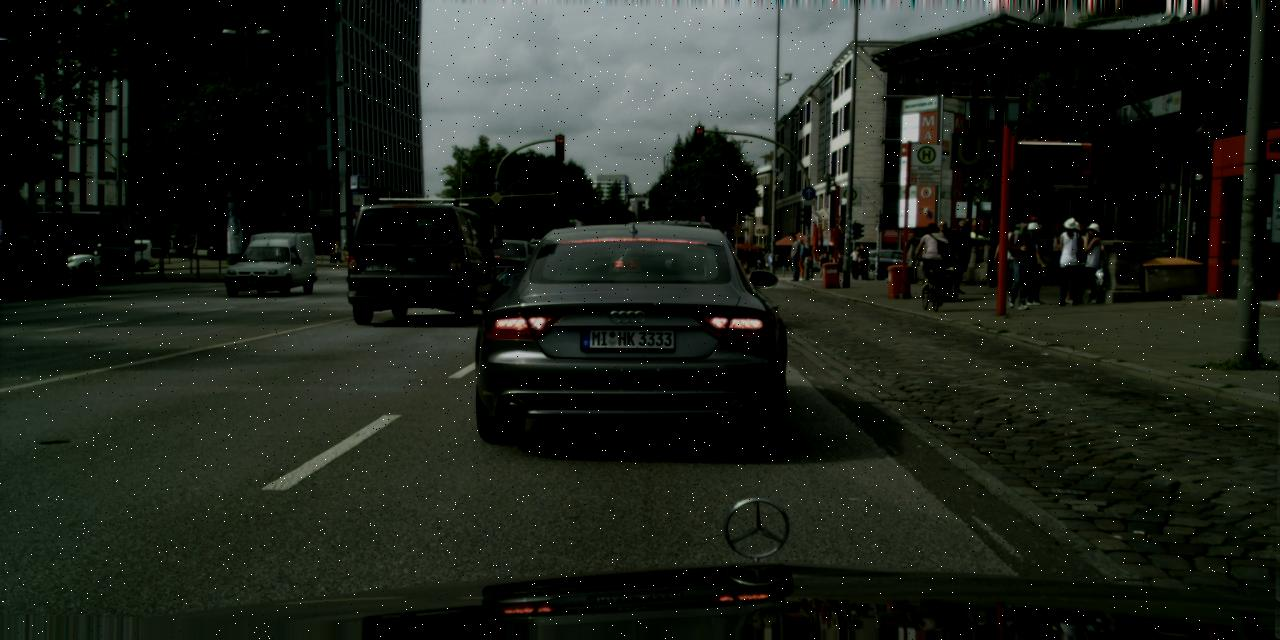ped: (1000, 214, 1040, 308), (1052, 216, 1088, 304), (1018, 221, 1051, 303), (1059, 220, 1092, 300), (1074, 222, 1107, 302), (944, 219, 973, 292), (918, 222, 947, 293), (927, 218, 955, 288), (997, 224, 1023, 288), (784, 233, 802, 279), (792, 238, 810, 280), (856, 242, 870, 279), (849, 245, 863, 279), (751, 250, 771, 270), (332, 240, 342, 262), (819, 252, 828, 276), (328, 242, 336, 262), (342, 242, 349, 260), (776, 252, 781, 269), (838, 253, 842, 273), (830, 254, 834, 261)
